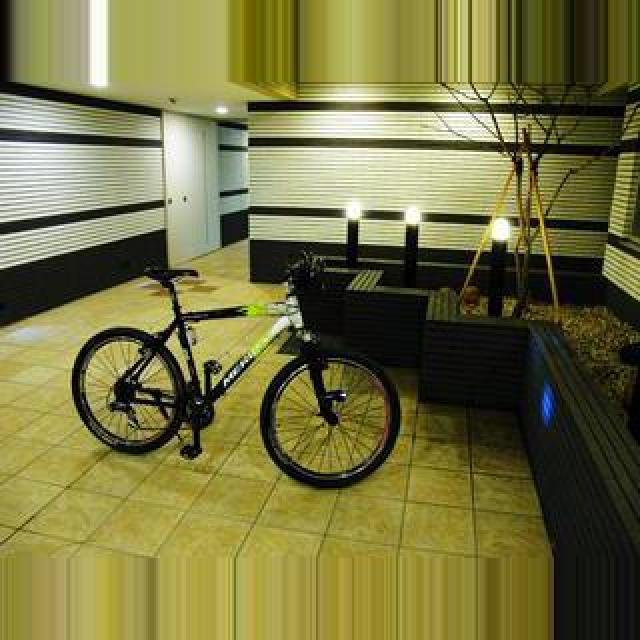Person: (67, 257, 405, 489)
